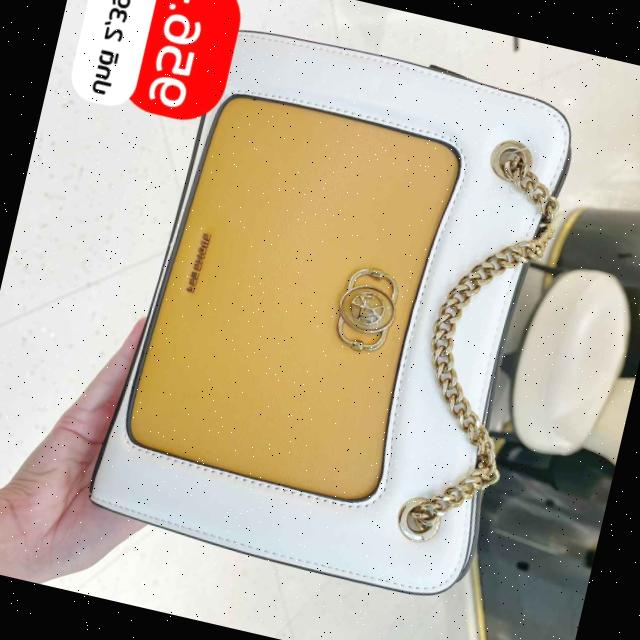Handbag: (79, 4, 594, 614)
